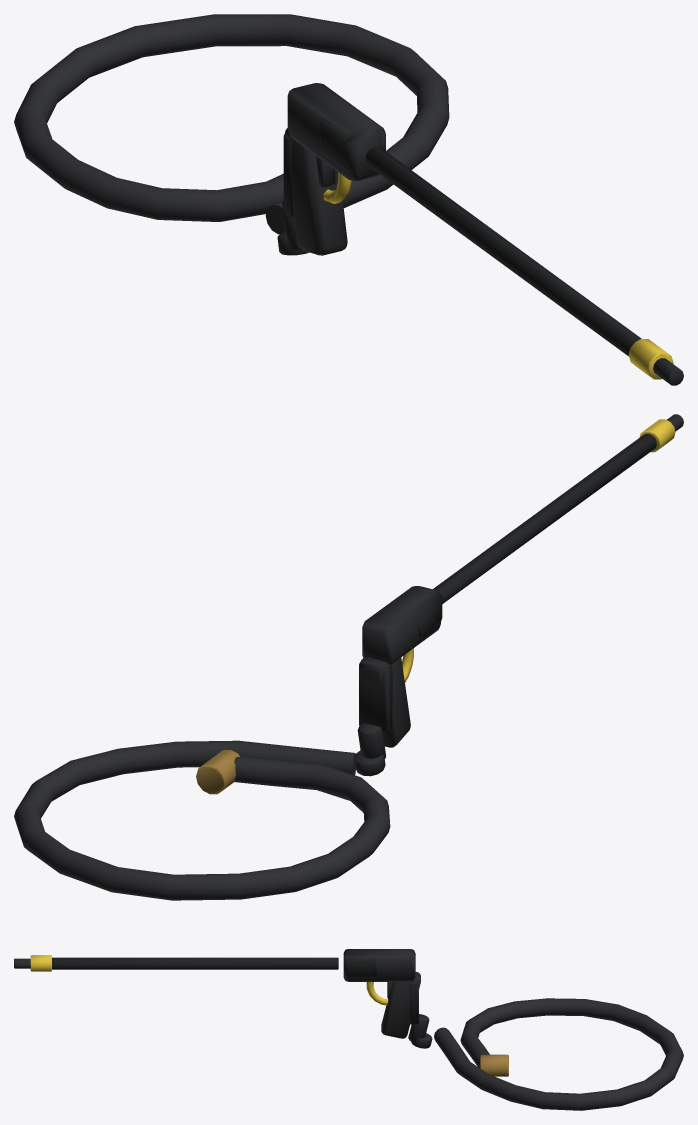
Rendered from asset_079_pressure_washer_hose_and_wand.glb.
3 renders of one model, top to bottom at view 1: azimuth 30°, elevation 25°; view 2: azimuth 150°, elevation 25°; view 3: azimuth 270°, elevation 25°, orthographic. The views are drawn at different scales.
Visible parts, largest first — view 1: MESH_WasherHoseCoil, MESH_WandLance, MESH_GunBody, MESH_GunGrip, MESH_GunShroud, MESH_WandTipCollar, MESH_GunGripStrap, MESH_WandNozzle; view 2: MESH_WasherHoseCoil, MESH_WandLance, MESH_GunBody, MESH_GunGrip, MESH_GunGripStrap, MESH_HoseMachineCoupler, MESH_GunHoseInlet; view 3: MESH_WasherHoseCoil, MESH_WandLance, MESH_GunBody, MESH_GunGrip, MESH_GunShroud, MESH_HoseMachineCoupler, MESH_GunGripStrap, MESH_GunHoseInlet, MESH_WandTipCollar.
Part boxes in pixels (<box>): MESH_WasherHoseCoil: <box>14,14,449,234</box>; MESH_WandLance: <box>365,147,641,356</box>; MESH_GunBody: <box>287,83,384,180</box>; MESH_GunGrip: <box>285,128,347,255</box>; MESH_GunShroud: <box>320,118,385,172</box>; MESH_WandTipCollar: <box>628,339,673,379</box>; MESH_GunGripStrap: <box>283,133,294,217</box>; MESH_WandNozzle: <box>653,358,683,385</box>; MESH_WasherHoseCoil: <box>14,740,390,900</box>; MESH_WandLance: <box>433,433,656,603</box>; MESH_GunBody: <box>362,586,440,664</box>; MESH_GunGrip: <box>360,657,410,747</box>; MESH_GunGripStrap: <box>359,662,392,732</box>; MESH_HoseMachineCoupler: <box>196,750,239,794</box>; MESH_GunHoseInlet: <box>357,723,385,759</box>; MESH_WasherHoseCoil: <box>434,998,683,1110</box>; MESH_WandLance: <box>52,957,338,969</box>; MESH_GunBody: <box>343,949,415,981</box>; MESH_GunGrip: <box>381,972,420,1038</box>; MESH_GunShroud: <box>345,958,376,977</box>; MESH_HoseMachineCoupler: <box>480,1054,508,1076</box>; MESH_GunGripStrap: <box>409,982,418,1024</box>; MESH_GunHoseInlet: <box>408,1014,429,1042</box>; MESH_WandTipCollar: <box>30,955,51,971</box>.
Size of the model in its own units: 0.5059 by 0.225 by 1.4.
